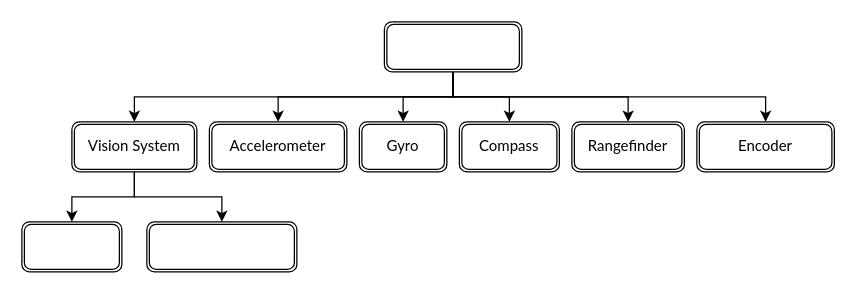
The diagram is 856 pixels wide and 294 high, and some of its shapes have lost their labels. The centre of each missing label's shape, as x and y in pixels:
Camera: (x=71, y=246)
Image Processor: (x=221, y=246)
Sensors: (x=452, y=46)
